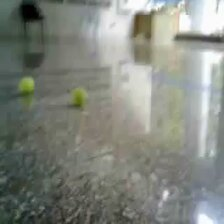tennis: (17, 75, 35, 92), (71, 86, 87, 105)
